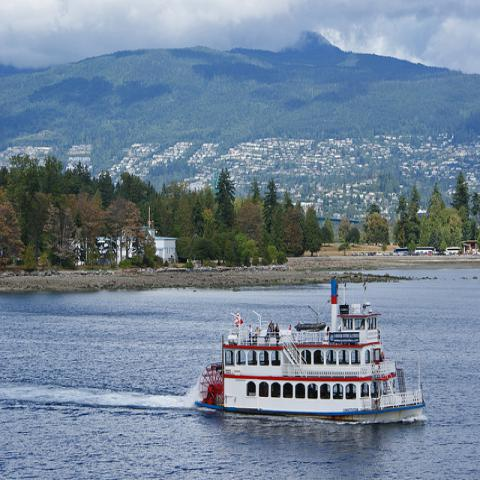bus: (414, 246, 434, 256), (393, 248, 410, 256), (446, 247, 462, 255)
